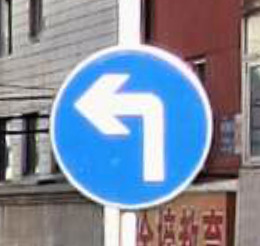left_turn: (47, 44, 213, 210)
